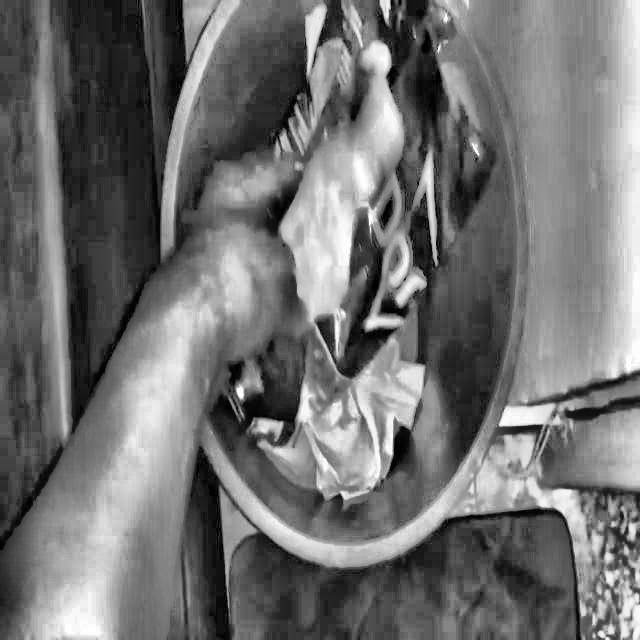Empty: (185, 0, 524, 517)
